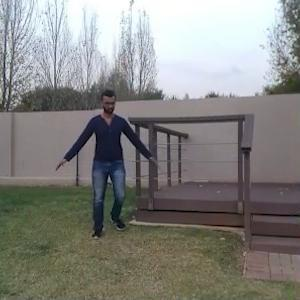land: (61, 82, 161, 254)
